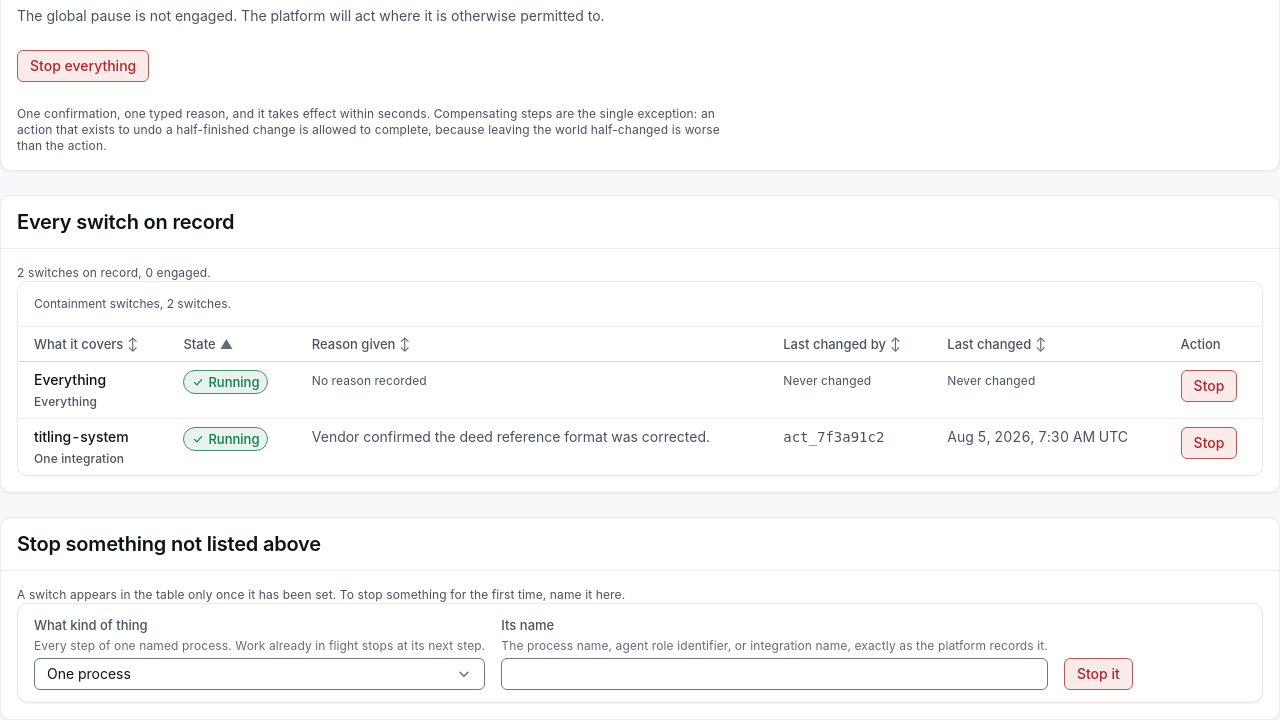
ContainmentControls › refuses to submit an unnamed target
(page scrolled)
Click the button "Stop it". click: (1098, 674)
box: [1064,658,1133,690]
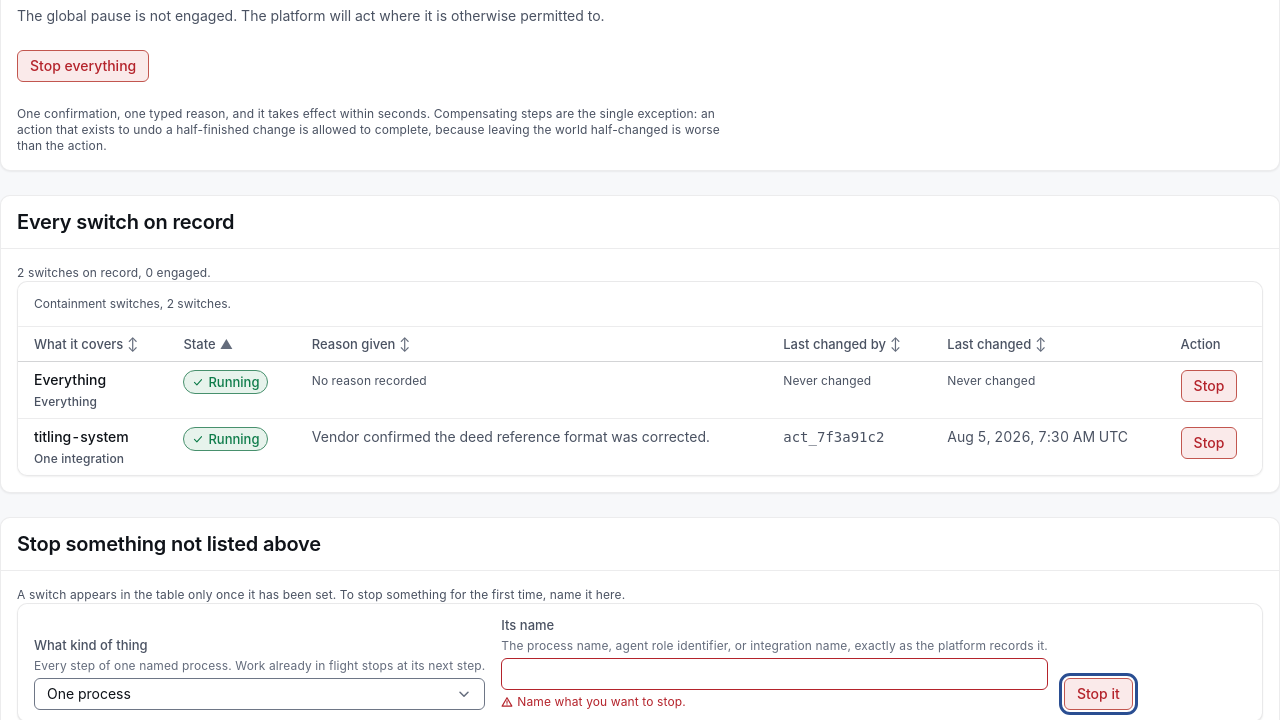
expect the text "Name what you want to stop." is shown: met, box [501,694,686,709]
